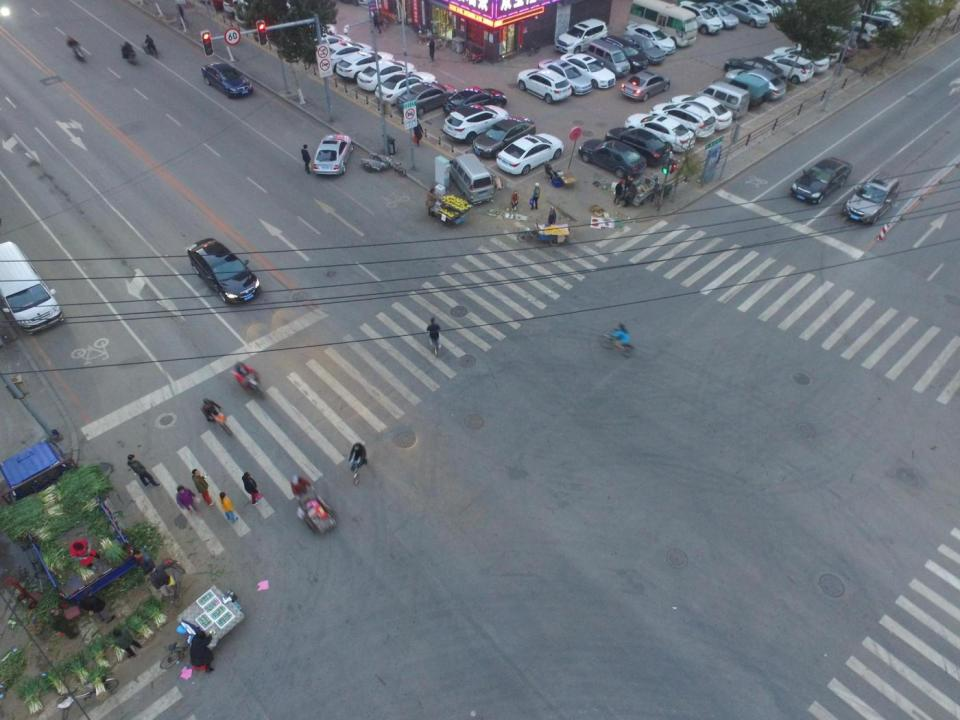bus: (621, 0, 702, 49)
car: (186, 239, 260, 303), (844, 170, 900, 226), (791, 156, 854, 205), (496, 131, 563, 177), (623, 110, 692, 154), (579, 140, 648, 177), (441, 105, 509, 140), (472, 120, 536, 157), (654, 104, 718, 139), (610, 128, 671, 164), (671, 93, 732, 129), (537, 59, 592, 97), (443, 87, 506, 120), (560, 53, 616, 90), (518, 68, 572, 106), (202, 60, 253, 100), (398, 85, 455, 120), (620, 66, 672, 102), (358, 60, 415, 92), (720, 58, 784, 86), (312, 134, 356, 174), (336, 50, 392, 80), (606, 32, 654, 67), (626, 21, 675, 55), (776, 46, 830, 76), (625, 35, 669, 70), (376, 73, 433, 100), (731, 68, 783, 97), (321, 42, 373, 70), (758, 56, 814, 82), (816, 27, 858, 60), (696, 1, 742, 31), (722, 1, 770, 29), (310, 34, 350, 62)
van: (0, 440, 133, 605), (0, 242, 63, 338), (450, 154, 496, 205), (556, 17, 606, 54), (700, 82, 752, 116), (587, 40, 630, 78), (679, 0, 724, 34), (726, 74, 768, 104), (857, 10, 905, 32), (842, 20, 877, 44)
